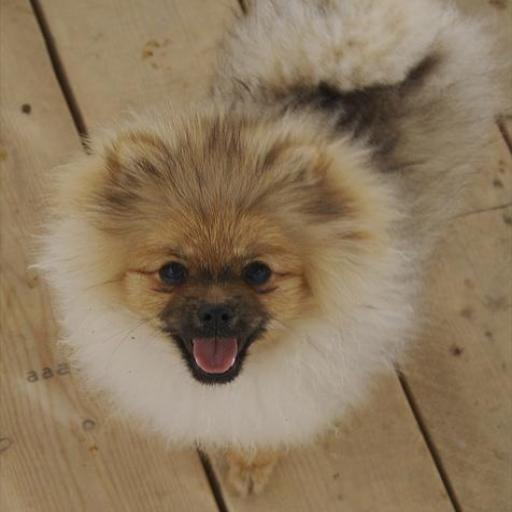dog_face: (79, 120, 335, 380)
